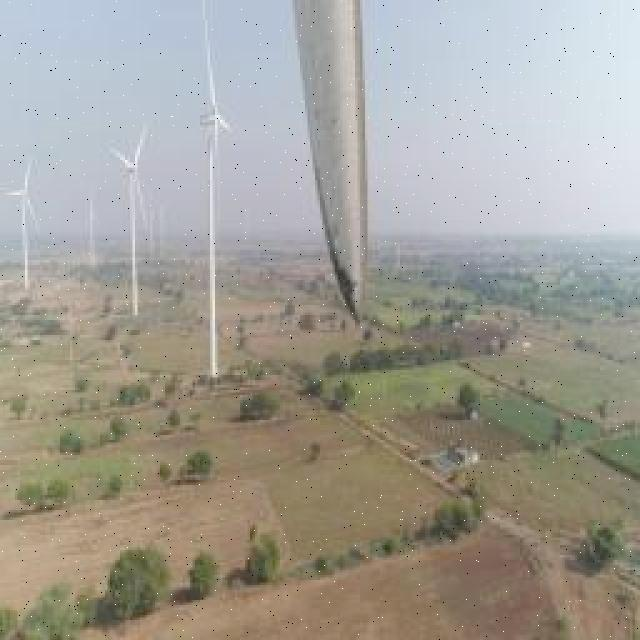Oil LEAKAGE: (299, 54, 370, 319), (314, 160, 364, 324)
